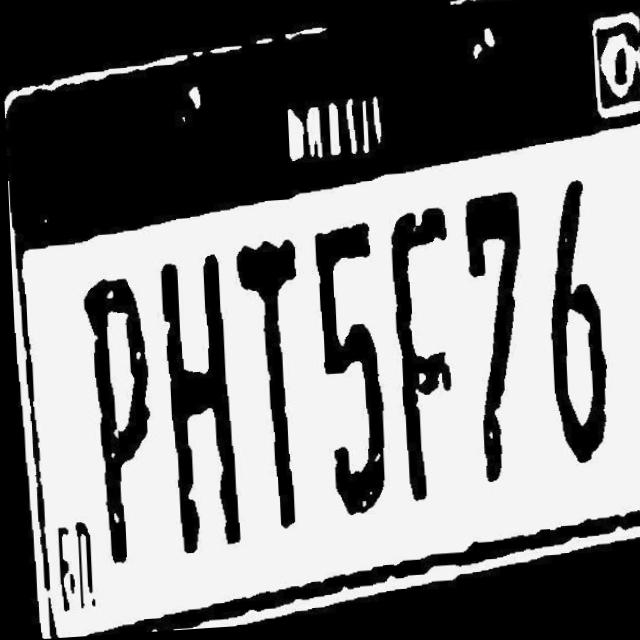5: (306, 221, 385, 525)
6: (535, 174, 613, 472)
7: (457, 188, 535, 488)
f: (378, 203, 464, 513)
h: (153, 247, 244, 561)
p: (72, 275, 156, 568)
t: (225, 231, 310, 538)
